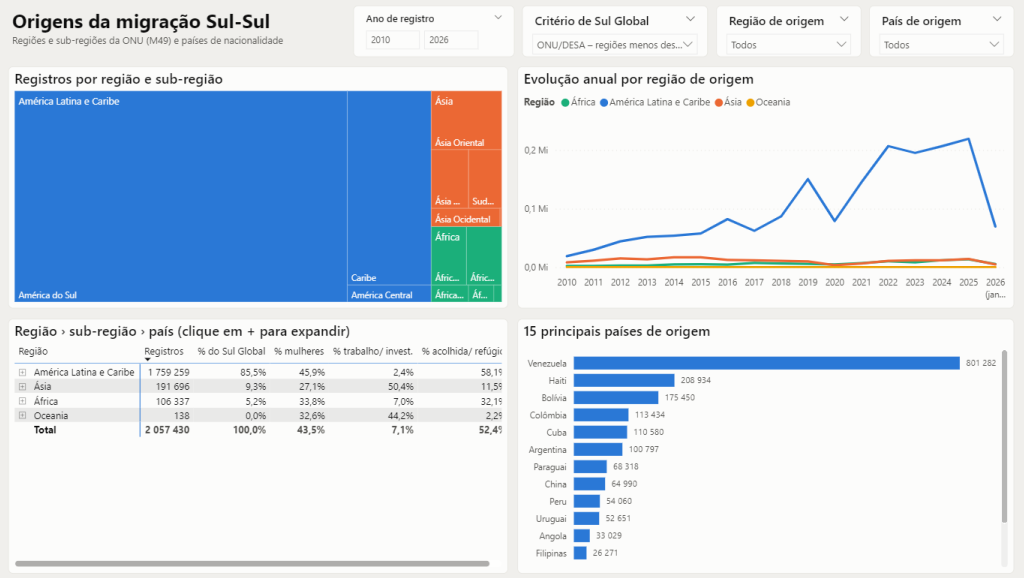

This screenshot's page, from the dashboard's own definition file:
{"tool":"powerbi","page":{"name":"Origens","canvas":[1280,720],"ordinal":1},"visuals":[{"type":"textbox","box":[16,6,418,70],"z":0},{"type":"slicer","fields":{"Values":["Ano.Ano"]},"box":[444,8,200,64],"z":0},{"type":"slicer","fields":{"Values":["Critério Sul Global.Critério"]},"box":[654,8,230,64],"z":0},{"type":"slicer","fields":{"Values":["País.Região"]},"box":[894,8,180,64],"z":0},{"type":"slicer","fields":{"Values":["País.País"]},"box":[1084,8,180,64],"z":0},{"type":"treemap","title":"Registros por região e sub-região","fields":{"Group":["País.Região"],"Details":["País.Sub-região"],"Values":["Medidas.Registros Sul Global"]},"box":[16,84,620,300],"z":0},{"type":"lineChart","title":"Evolução anual por região de origem","fields":{"Category":["Ano.Ano (rótulo)"],"Y":["Medidas.Registros Sul Global"],"Series":["País.Região"]},"box":[648,84,616,300],"z":0},{"type":"pivotTable","title":"Região › sub-região › país (clique em + para expandir)","fields":{"Rows":["País.Região","País.Sub-região","País.País"],"Values":["Medidas.Registros Sul Global","Medidas.Participação no Sul Global","Medidas.% mulheres (Sul Global)","Medidas.% trabalho/investimentos (Sul Global)","Medidas.% acolhida humanitária e refúgio (Sul Global)"]},"box":[16,396,620,316],"z":0},{"type":"clusteredBarChart","title":"15 principais países de origem","fields":{"Category":["País.País"],"Y":["Medidas.Sul Global – top 15 países"]},"box":[648,396,616,316],"z":0}]}

Visuals, with their boxes in screenshot pixels (x1, y1, x2, y2), scaled from the page's 1280x720 canvas onto the 1024x578 screenshot:
textbox: detection(13, 5, 347, 61)
slicer - Ano.Ano: detection(355, 6, 515, 58)
slicer - Critério Sul Global.Critério: detection(523, 6, 707, 58)
slicer - País.Região: detection(715, 6, 859, 58)
slicer - País.País: detection(867, 6, 1011, 58)
"Registros por região e sub-região" treemap: detection(13, 67, 509, 308)
"Evolução anual por região de origem" lineChart: detection(518, 67, 1011, 308)
"Região › sub-região › país (clique em + para expandir)" pivotTable: detection(13, 318, 509, 572)
"15 principais países de origem" clusteredBarChart: detection(518, 318, 1011, 572)
